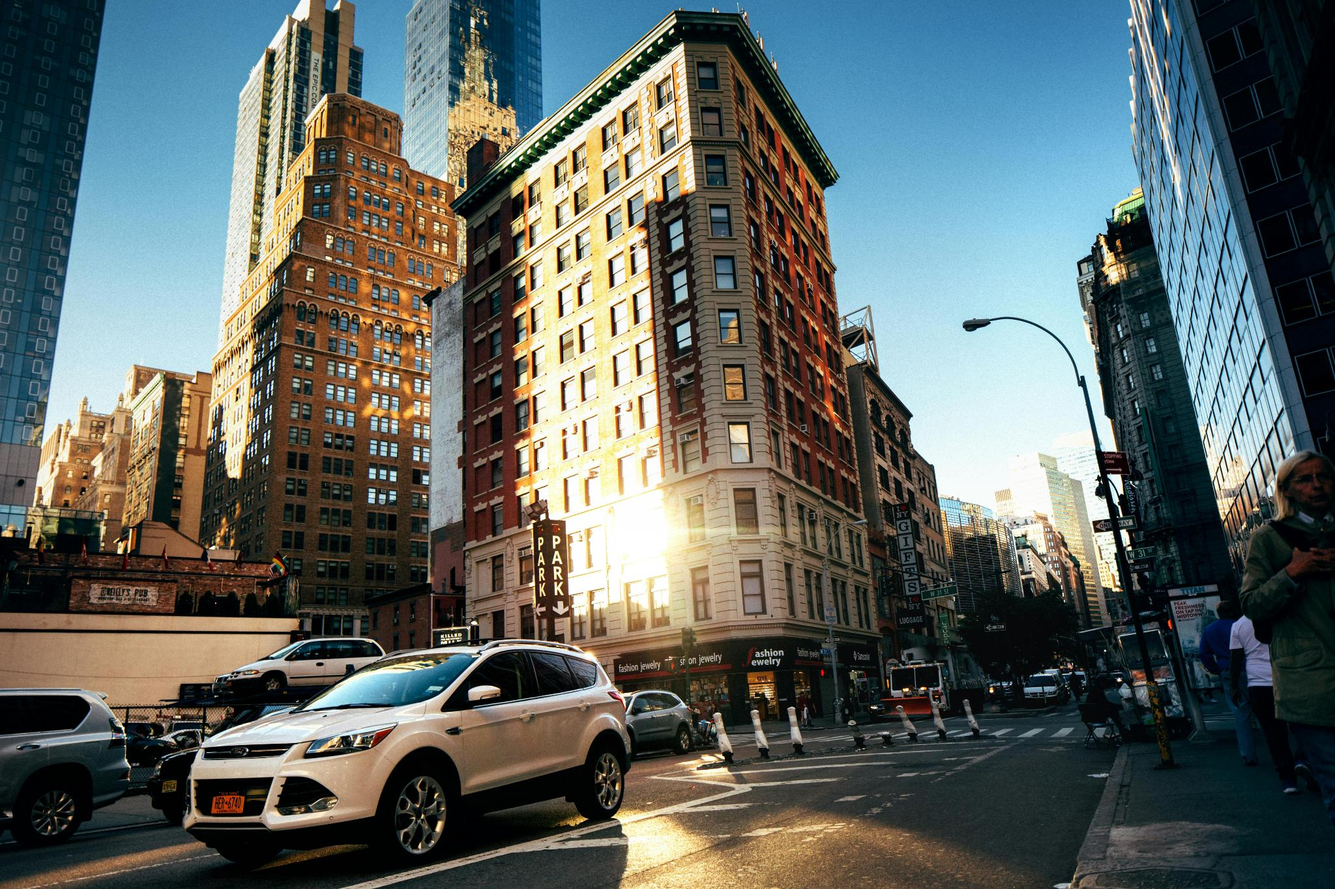car: (173, 649, 672, 858), (0, 691, 133, 839), (231, 628, 382, 688)
pedestrian: (1253, 449, 1335, 815)
